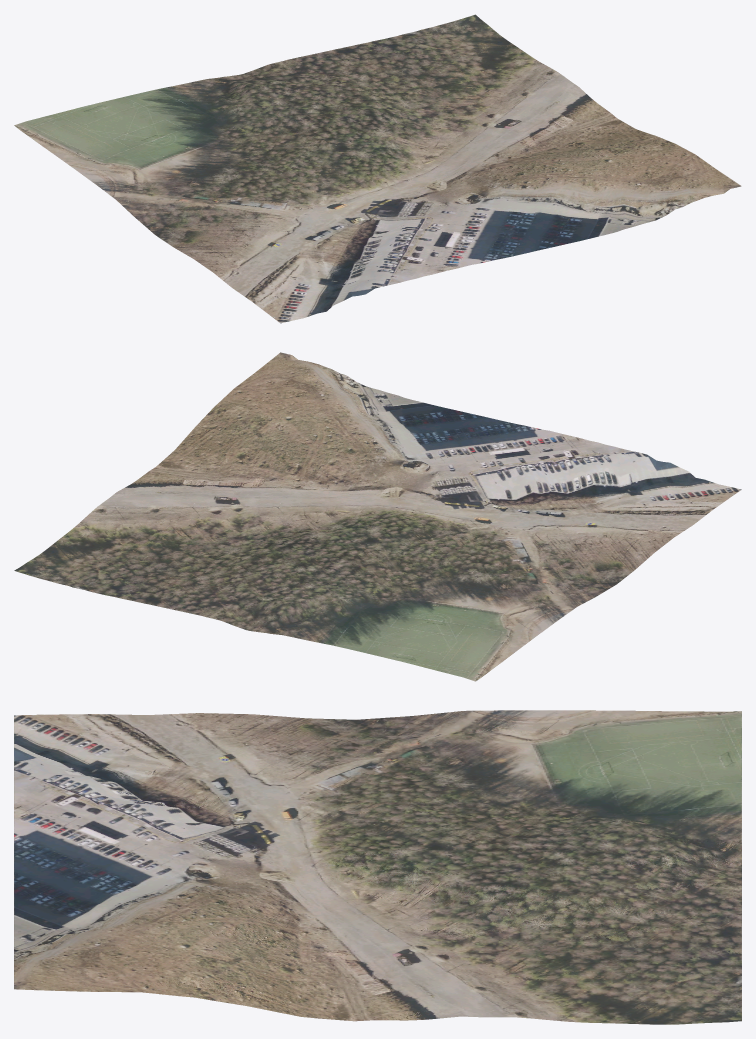
Rendered from CM_Terrain_24490049_6822046.fbx.
The picture shows the model from 3 angles, top to bottom: view 1: azimuth 30°, elevation 25°; view 2: azimuth 150°, elevation 25°; view 3: azimuth 270°, elevation 25°; orthographic projection. The views are drawn at different scales.
Visible parts, largest first — view 1: CM_Terrain_24490049_6822046_LOD0; view 2: CM_Terrain_24490049_6822046_LOD0; view 3: CM_Terrain_24490049_6822046_LOD0.
Part boxes in pixels (box(x1,y1,x2,y2)): CM_Terrain_24490049_6822046_LOD0: box(14, 14, 741, 323); CM_Terrain_24490049_6822046_LOD0: box(14, 352, 741, 681); CM_Terrain_24490049_6822046_LOD0: box(14, 710, 741, 1024).
Size of what is drawn, in the model's own units: 205 by 12.13 by 205.
